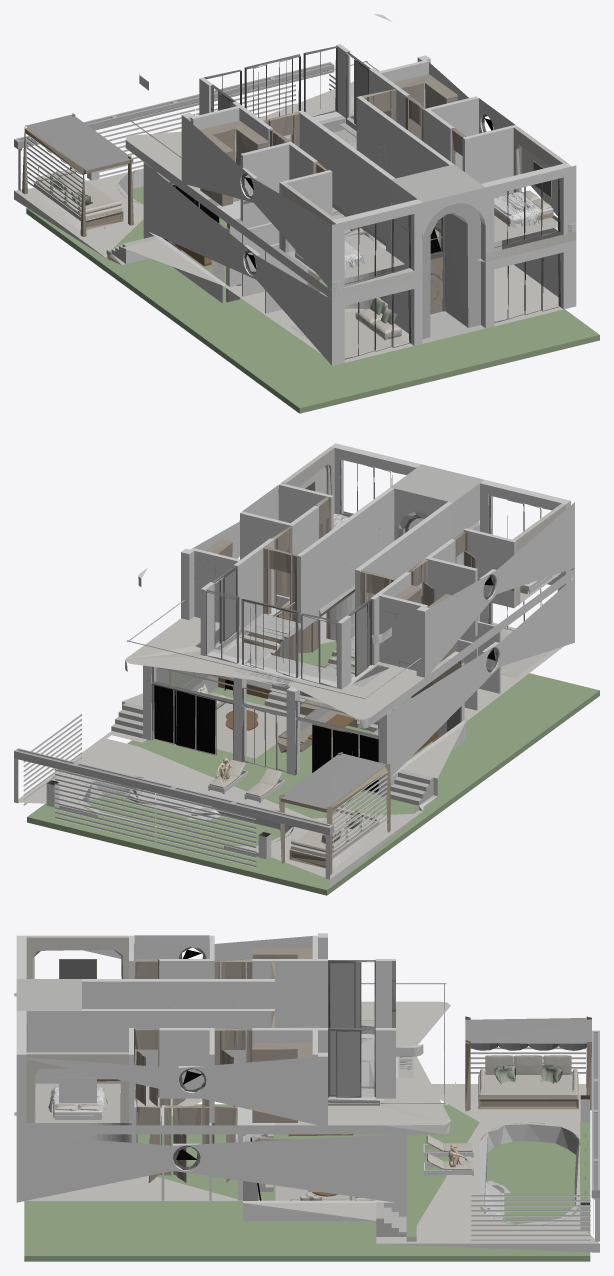
The model's file is nha-5-la-ma.glb.
3 views of the same model, one above another, from view 1: azimuth 30°, elevation 25°; view 2: azimuth 150°, elevation 25°; view 3: azimuth 270°, elevation 25° (orthographic). The views are drawn at different scales.
Parts seen in each view (by area): view 1: solid, glass; view 2: solid, glass; view 3: solid, glass.
Boxes of the visible parts, box(x1,y1,x2,y2) form: solid: box(14, 14, 599, 413); glass: box(26, 60, 367, 170); solid: box(14, 443, 599, 895); glass: box(221, 570, 385, 808); solid: box(14, 933, 599, 1261); glass: box(330, 963, 591, 1095).
Bounding box in the file's own units: 7.22 × 4.36 × 11.18.
